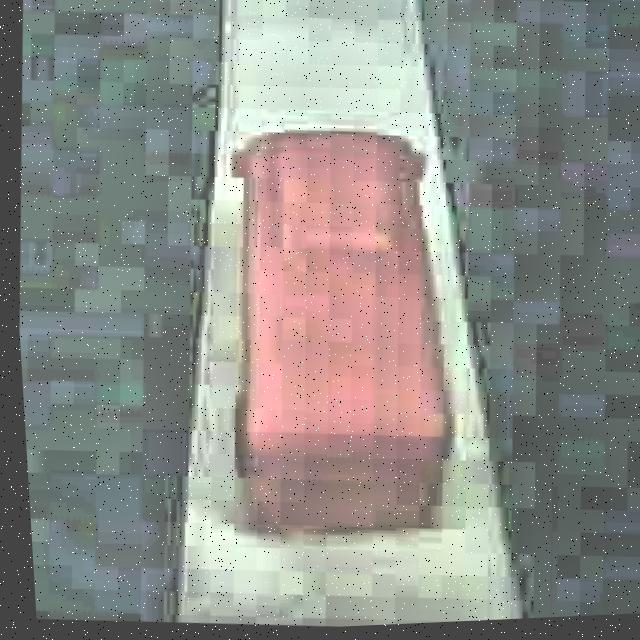bus: (199, 114, 481, 551)
